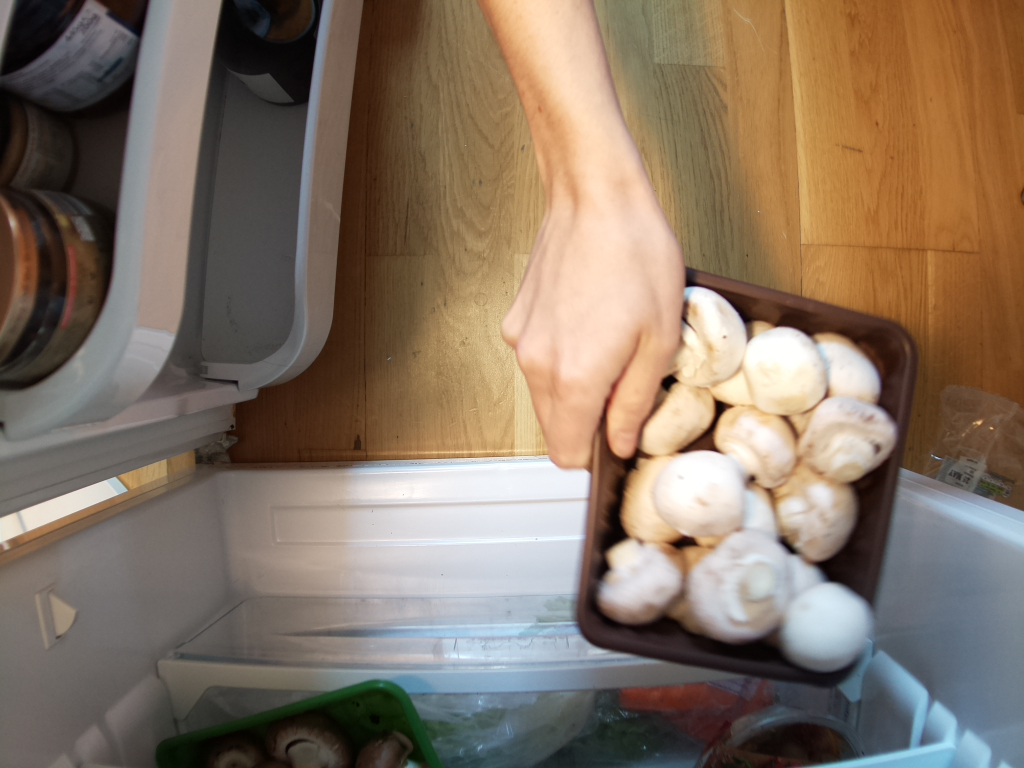mushrooms: (566, 265, 922, 695)
